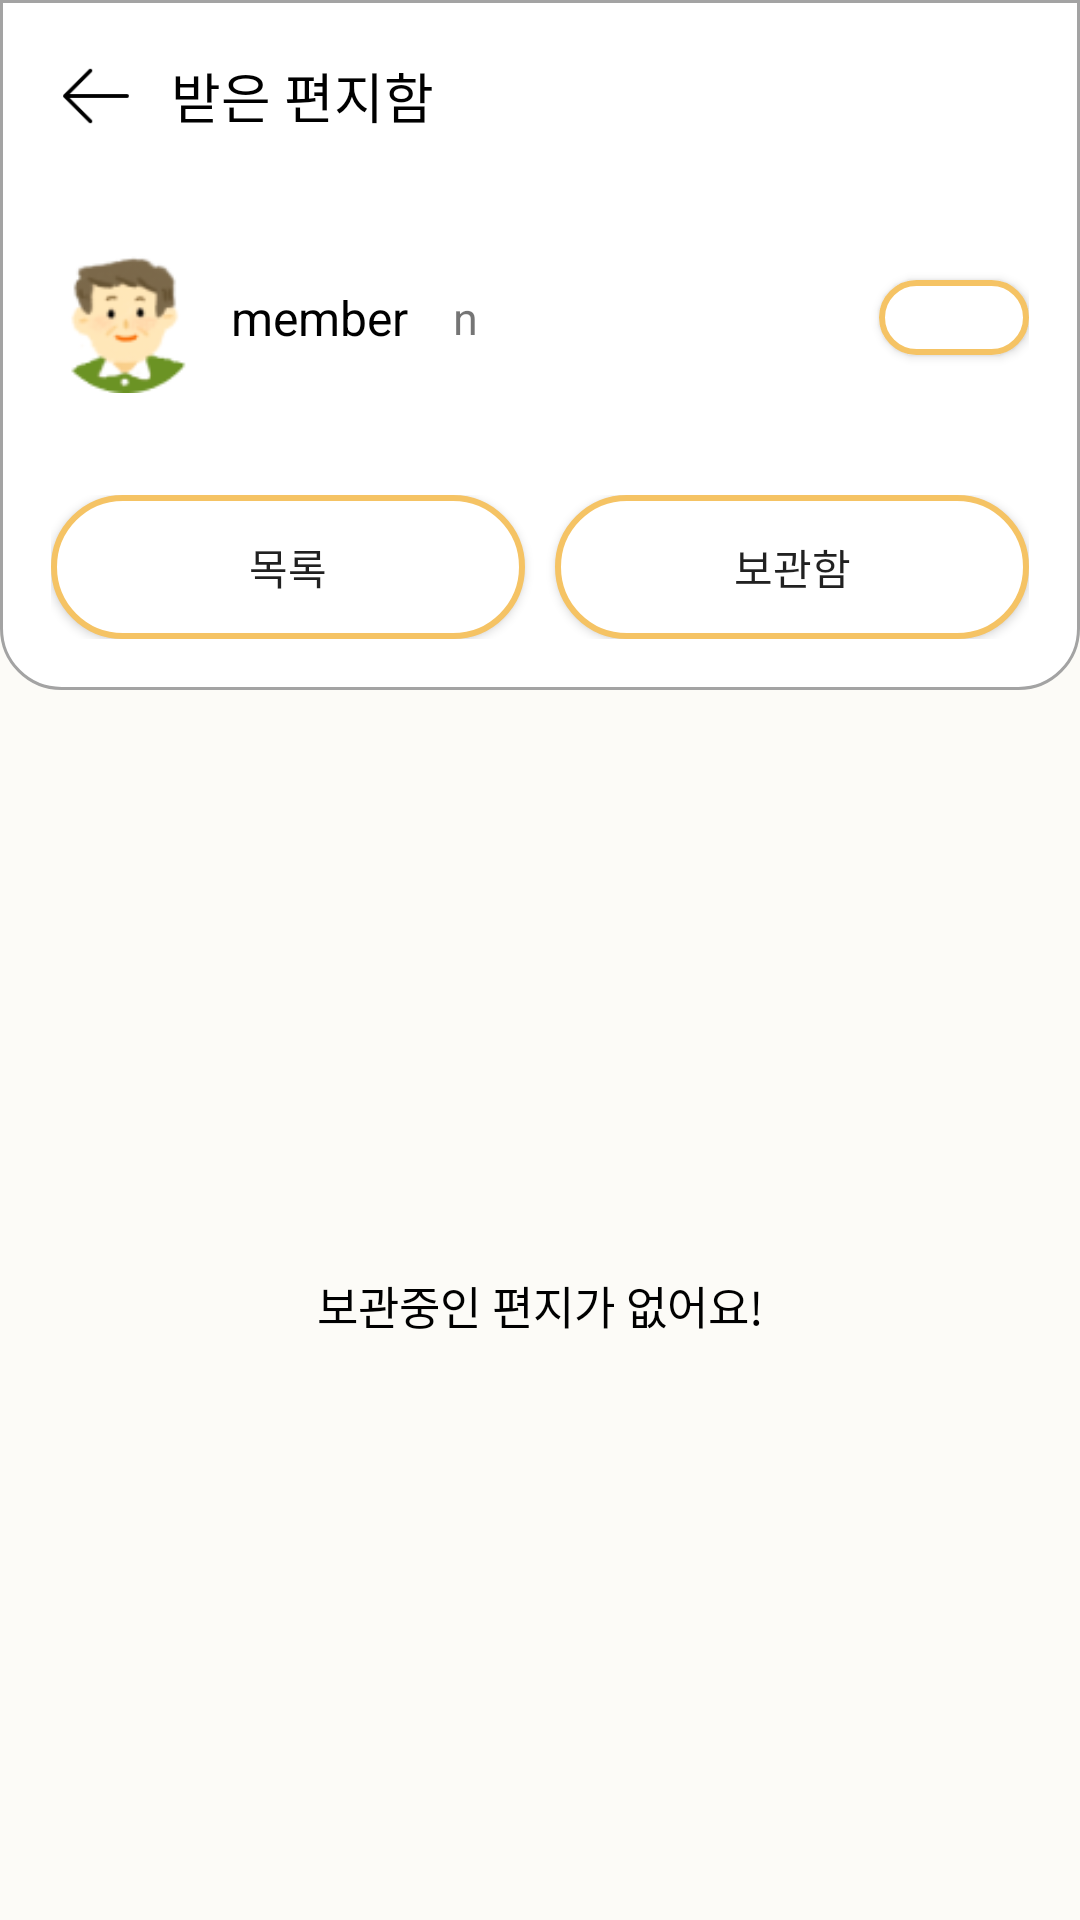

Where icons sit on this 1080×1920 app screen, as (x1, y1, x2, y2):
back: (63, 68, 129, 124)
dad: (71, 258, 185, 393)
